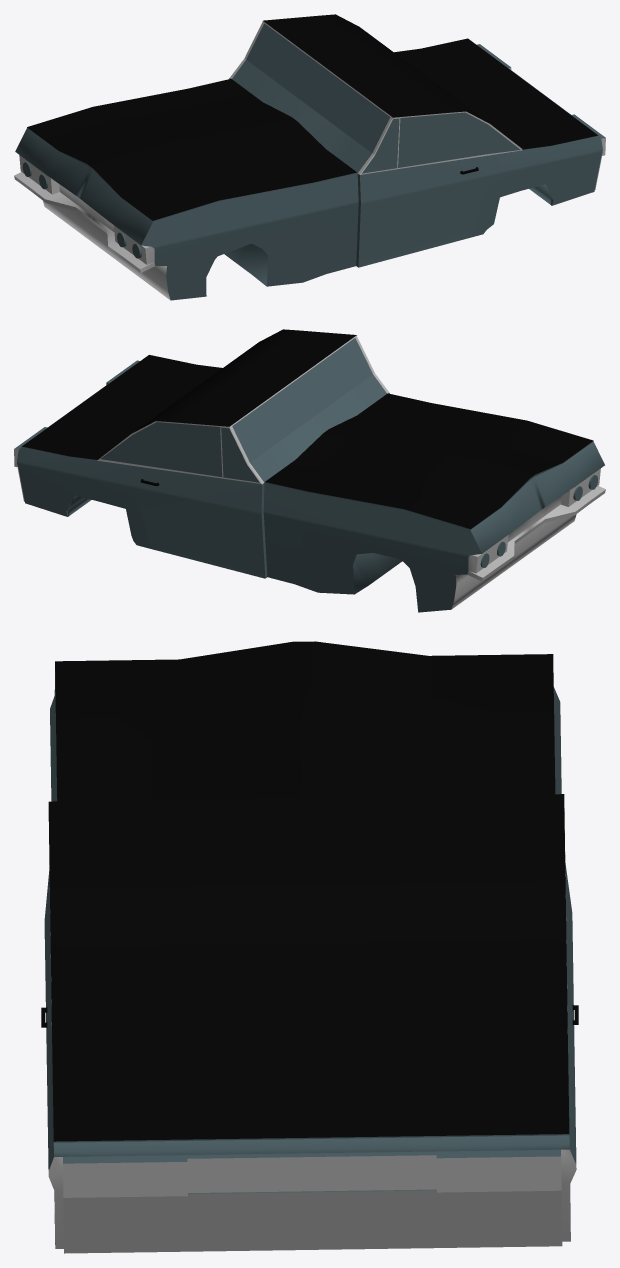
Rendered from Muscle Car - Draft.fbx.
3 views of the same model, one above another, from view 1: azimuth 30°, elevation 25°; view 2: azimuth 150°, elevation 25°; view 3: azimuth 270°, elevation 25° (orthographic). The views are drawn at different scales.
Parts seen in each view (by area): view 1: Body; view 2: Body; view 3: Body.
Part boxes in pixels (<box>): Body: <box>14,14,605,300</box>; Body: <box>14,329,605,612</box>; Body: <box>44,641,576,1253</box>.
Bounding box in the file's own units: 9.83 × 2.98 × 4.88.
